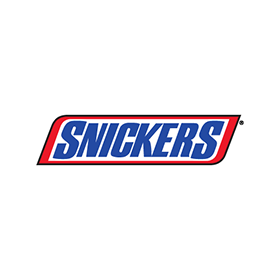snickers: (49, 118, 224, 157), (51, 120, 224, 157)
